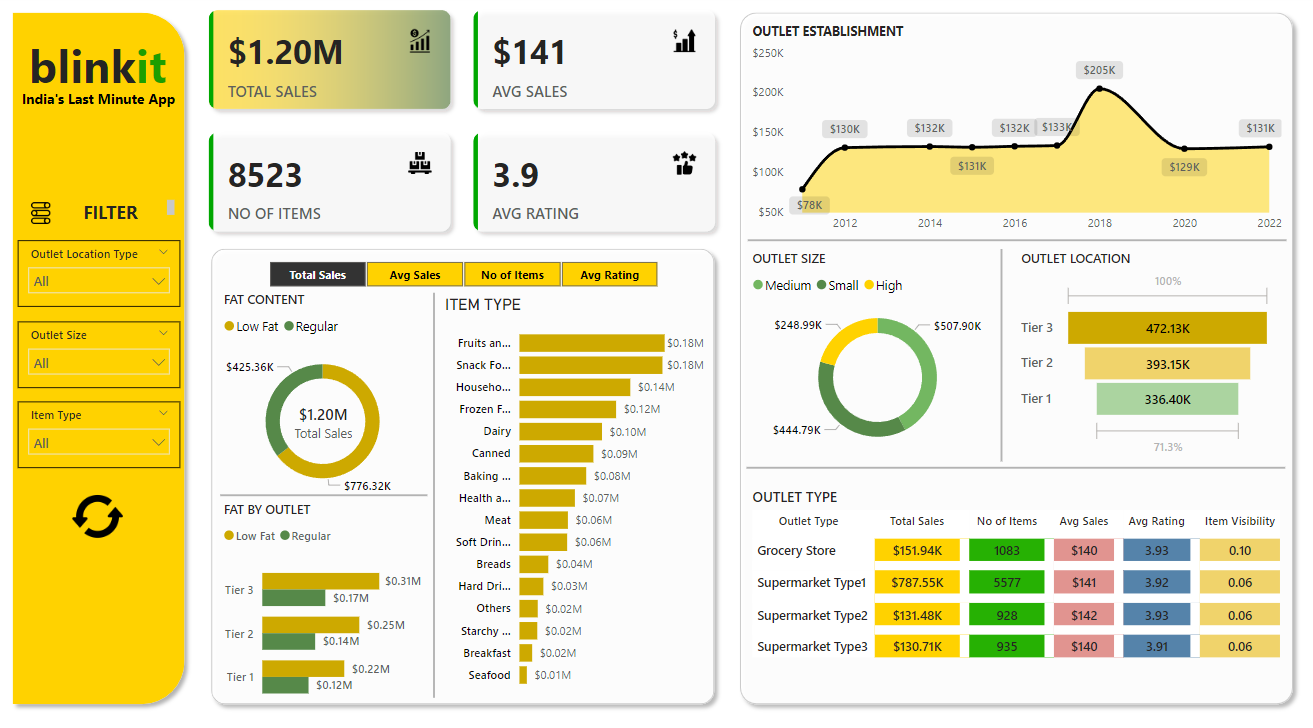

The page's visual inventory and layout, read from the dashboard file:
{"tool":"powerbi","page":{"name":"Page 1","canvas":[1400,800],"ordinal":0},"visuals":[{"type":"shape","box":[10.6,10.6,200,750],"z":0},{"type":"textbox","box":[23.8,37,172,80.7],"z":1000},{"type":"textbox","box":[18.5,95.2,183.9,43.7],"z":2000},{"type":"cardVisual","fields":{"Data":["BlinkIT Grocery Data.Total Sales","BlinkIT Grocery Data.Avg Sales","BlinkIT Grocery Data.No of Items","BlinkIT Grocery Data.Avg Rating"]},"box":[210.3,0,570.1,269.8],"z":3000},{"type":"shape","box":[220.9,260.6,550.3,500],"z":4000},{"type":"donutChart","title":"FAT CONTENT","fields":{"Y":["BlinkIT Grocery Data.Total Sales"],"Category":["BlinkIT Grocery Data.Item Fat Content"]},"box":[238.1,313.5,219.6,230.2],"z":5000},{"type":"slicer","fields":{"Values":["Metrics.Metrics"]},"box":[265.9,276.5,460.3,39.7],"z":6000},{"type":"cardVisual","fields":{"Data":["BlinkIT Grocery Data.Total Sales"]},"box":[295,416.7,107.1,67.5],"z":7000},{"type":"clusteredBarChart","title":"FAT BY OUTLET","fields":{"Y":["BlinkIT Grocery Data.Total Sales"],"Category":["BlinkIT Grocery Data.Outlet Location Type"],"Series":["BlinkIT Grocery Data.Item Fat Content"]},"box":[238.1,535.7,219.6,230.2],"z":8000},{"type":"shape","box":[239.4,521.2,219.6,18.5],"z":9000},{"type":"shape","box":[459,316.1,13.2,428.6],"z":10000},{"type":"barChart","title":"ITEM TYPE","fields":{"Y":["BlinkIT Grocery Data.Total Sales"],"Category":["BlinkIT Grocery Data.Item Type"]},"box":[472.2,318.8,284.4,425.9],"z":10001},{"type":"shape","box":[780.4,10.6,603.2,750],"z":10002},{"type":"lineChart","title":"OUTLET ESTABLISHMENT","fields":{"Category":["BlinkIT Grocery Data.Outlet Establishment Year"],"Y":["BlinkIT Grocery Data.Total Sales"]},"box":[797.6,30.4,570.1,230.2],"z":10003},{"type":"shape","box":[797.6,251.3,570.1,18.5],"z":10004},{"type":"donutChart","title":"OUTLET SIZE","fields":{"Y":["BlinkIT Grocery Data.Total Sales"],"Category":["BlinkIT Grocery Data.Outlet Size"]},"box":[797.6,269.8,275.1,224.9],"z":10005},{"type":"shape","box":[1059.5,269.8,13.2,224.9],"z":10006},{"type":"funnel","title":"OUTLET LOCATION","fields":{"Y":["Sum(BlinkIT Grocery Data.Sales)"],"Category":["BlinkIT Grocery Data.Outlet Location Type"]},"box":[1082,269.8,275.1,224.9],"z":10007},{"type":"shape","box":[796.3,492.1,570.1,18.5],"z":10008},{"type":"pivotTable","title":"OUTLET TYPE","fields":{"Rows":["BlinkIT Grocery Data.Outlet Type"],"Values":["BlinkIT Grocery Data.Total Sales","BlinkIT Grocery Data.No of Items","BlinkIT Grocery Data.Avg Sales","BlinkIT Grocery Data.Avg Rating","Avg(BlinkIT Grocery Data.Item Visibility)"]},"box":[797.6,521.2,570.1,211.6],"z":10009},{"type":"slicer","fields":{"Values":["BlinkIT Grocery Data.Outlet Location Type"]},"box":[25.1,260.6,172,70.1],"z":10010},{"type":"slicer","fields":{"Values":["BlinkIT Grocery Data.Outlet Size"]},"box":[25.1,346.6,172,70.1],"z":10011},{"type":"slicer","fields":{"Values":["BlinkIT Grocery Data.Item Type"]},"box":[25.1,431.2,172,70.1],"z":10012},{"type":"textbox","box":[58.2,213,137.6,38.4],"z":10013},{"type":"image","box":[33.1,209,33.1,45],"z":10014},{"type":"image","box":[78,521.2,63.5,63.5],"z":10015}]}

Visuals, with their boxes on the page's 1400x800 design canvas (x1, y1, x2, y2). These are canvas units, not pixel positions in the 1313x728 screenshot, which may show the page scaled, cropped or inside an application window:
shape: <bbox>11, 11, 211, 761</bbox>
textbox: <bbox>24, 37, 196, 118</bbox>
textbox: <bbox>18, 95, 202, 139</bbox>
cardVisual - BlinkIT Grocery Data.Total Sales x BlinkIT Grocery Data.Avg Sales: <bbox>210, 0, 780, 270</bbox>
shape: <bbox>221, 261, 771, 761</bbox>
"FAT CONTENT" donutChart: <bbox>238, 314, 458, 544</bbox>
slicer - Metrics.Metrics: <bbox>266, 276, 726, 316</bbox>
cardVisual - BlinkIT Grocery Data.Total Sales: <bbox>295, 417, 402, 484</bbox>
"FAT BY OUTLET" clusteredBarChart: <bbox>238, 536, 458, 766</bbox>
shape: <bbox>239, 521, 459, 540</bbox>
shape: <bbox>459, 316, 472, 745</bbox>
"ITEM TYPE" barChart: <bbox>472, 319, 757, 745</bbox>
shape: <bbox>780, 11, 1384, 761</bbox>
"OUTLET ESTABLISHMENT" lineChart: <bbox>798, 30, 1368, 261</bbox>
shape: <bbox>798, 251, 1368, 270</bbox>
"OUTLET SIZE" donutChart: <bbox>798, 270, 1073, 495</bbox>
shape: <bbox>1060, 270, 1073, 495</bbox>
"OUTLET LOCATION" funnel: <bbox>1082, 270, 1357, 495</bbox>
shape: <bbox>796, 492, 1366, 511</bbox>
"OUTLET TYPE" pivotTable: <bbox>798, 521, 1368, 733</bbox>
slicer - BlinkIT Grocery Data.Outlet Location Type: <bbox>25, 261, 197, 331</bbox>
slicer - BlinkIT Grocery Data.Outlet Size: <bbox>25, 347, 197, 417</bbox>
slicer - BlinkIT Grocery Data.Item Type: <bbox>25, 431, 197, 501</bbox>
textbox: <bbox>58, 213, 196, 251</bbox>
image: <bbox>33, 209, 66, 254</bbox>
image: <bbox>78, 521, 142, 585</bbox>
